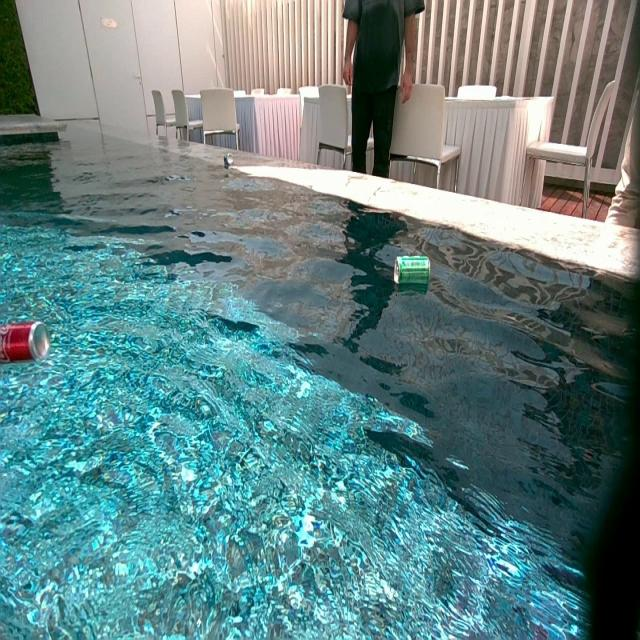Cans: (0, 323, 49, 366), (396, 254, 431, 291), (222, 152, 234, 166)
